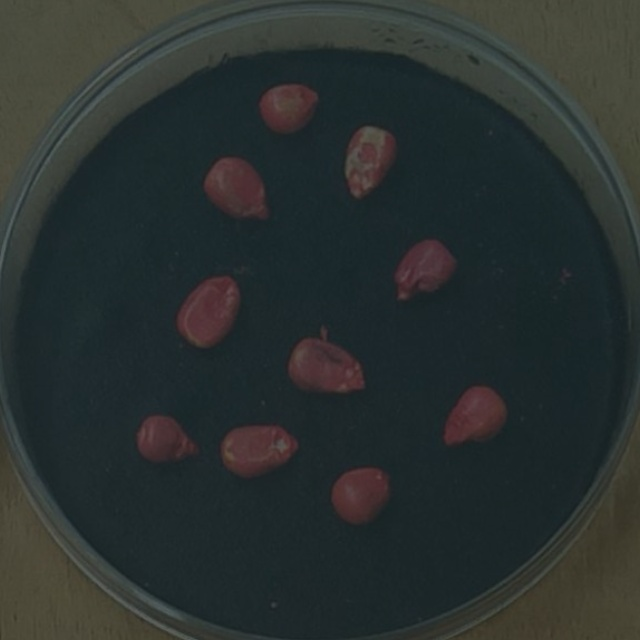Zea mays: (280, 328, 374, 403), (169, 268, 248, 357), (212, 414, 307, 487), (197, 149, 278, 229), (386, 229, 463, 308), (437, 378, 514, 456), (337, 118, 404, 206), (323, 460, 400, 534), (129, 407, 206, 471), (251, 76, 325, 141)
